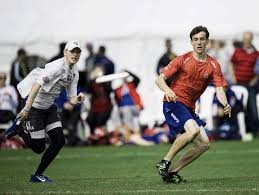disc: (95, 72, 129, 85)
